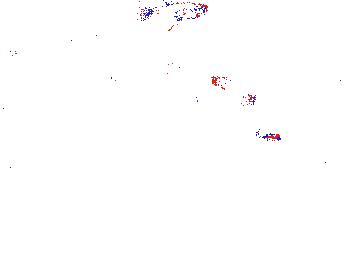red belly glassfish: (288, 158, 330, 176), (257, 129, 284, 144)
redtail glassfish: (1, 31, 82, 62), (104, 56, 187, 86), (137, 1, 209, 31), (209, 74, 259, 109), (298, 63, 346, 97)
